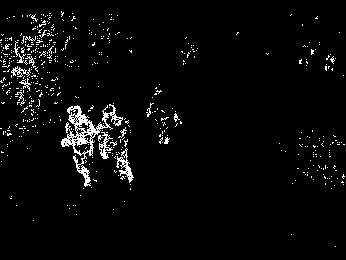person: (60, 105, 96, 187), (98, 103, 133, 182), (146, 85, 183, 146)
